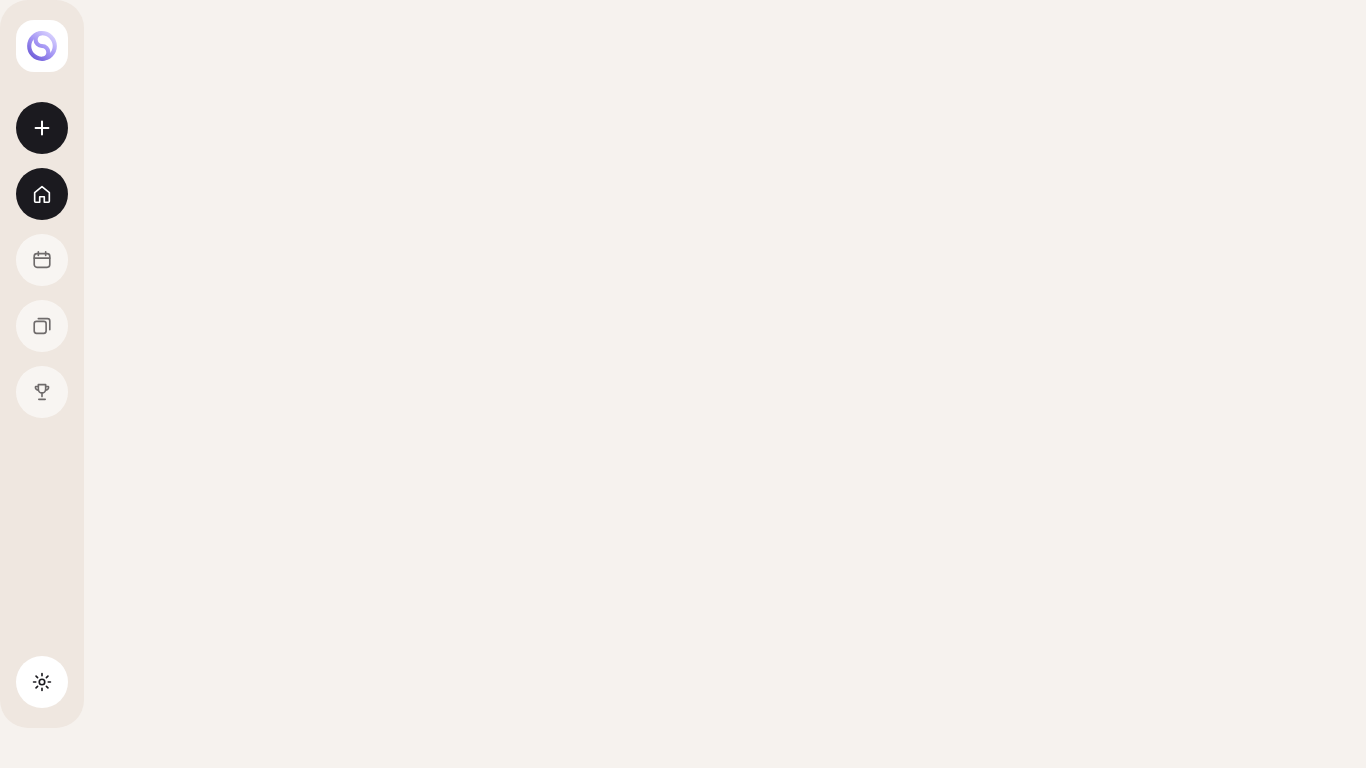
Test: AppRail › closes on pointerdown outside but not inside
Click the button named "Settings": (42, 682) [16, 656, 68, 708]
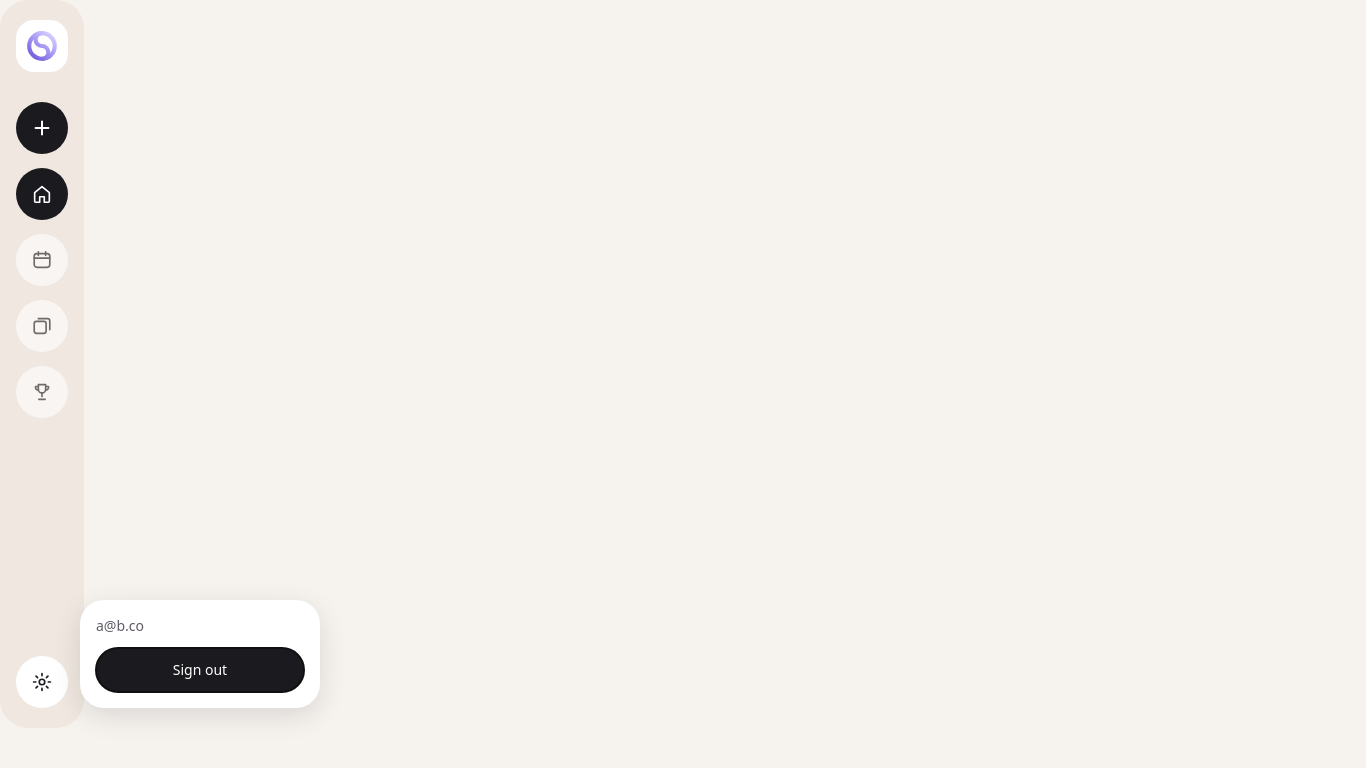
Press the mouse on the text "a@b.co": (120, 626) [96, 616, 144, 635]
Expected: the element named "Account" is shown, [80, 600, 320, 708]
Press the mouse on the element showing "a@b.co Sign out": (683, 384) [0, 0, 1365, 767]
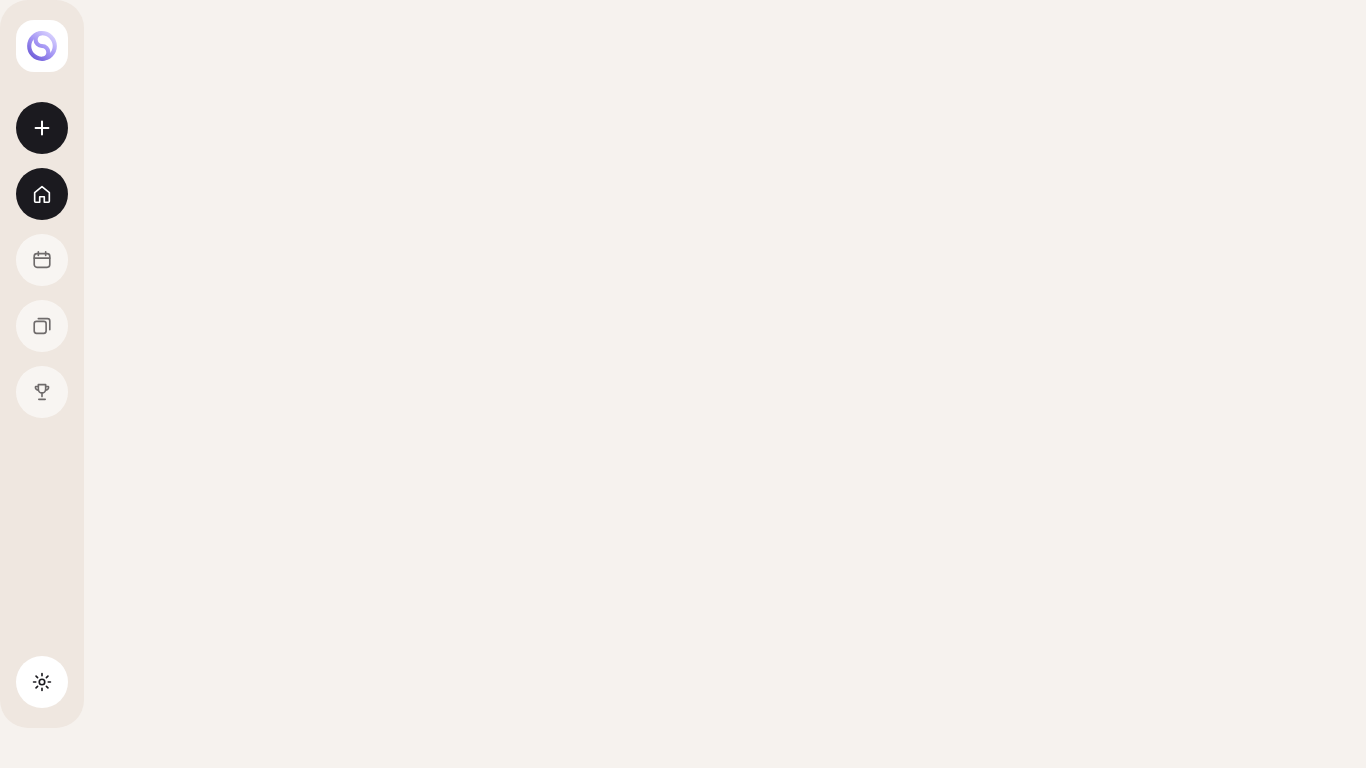
Expected: the element "Account" is gone
